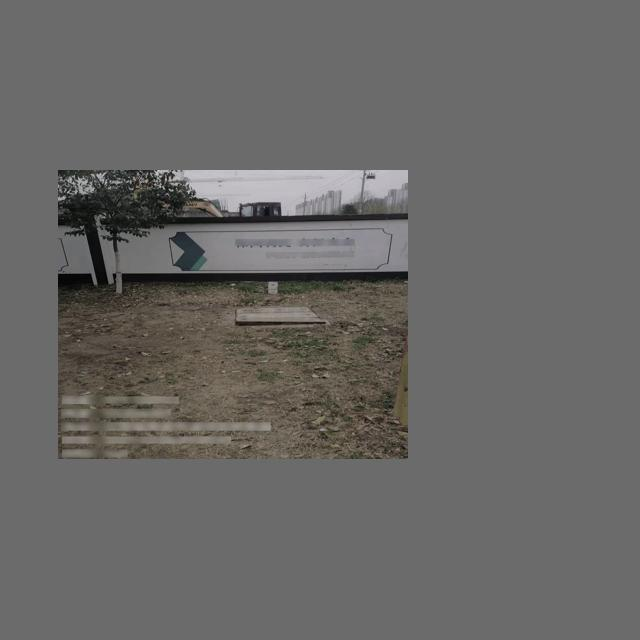uncovered: (232, 305, 330, 328)
